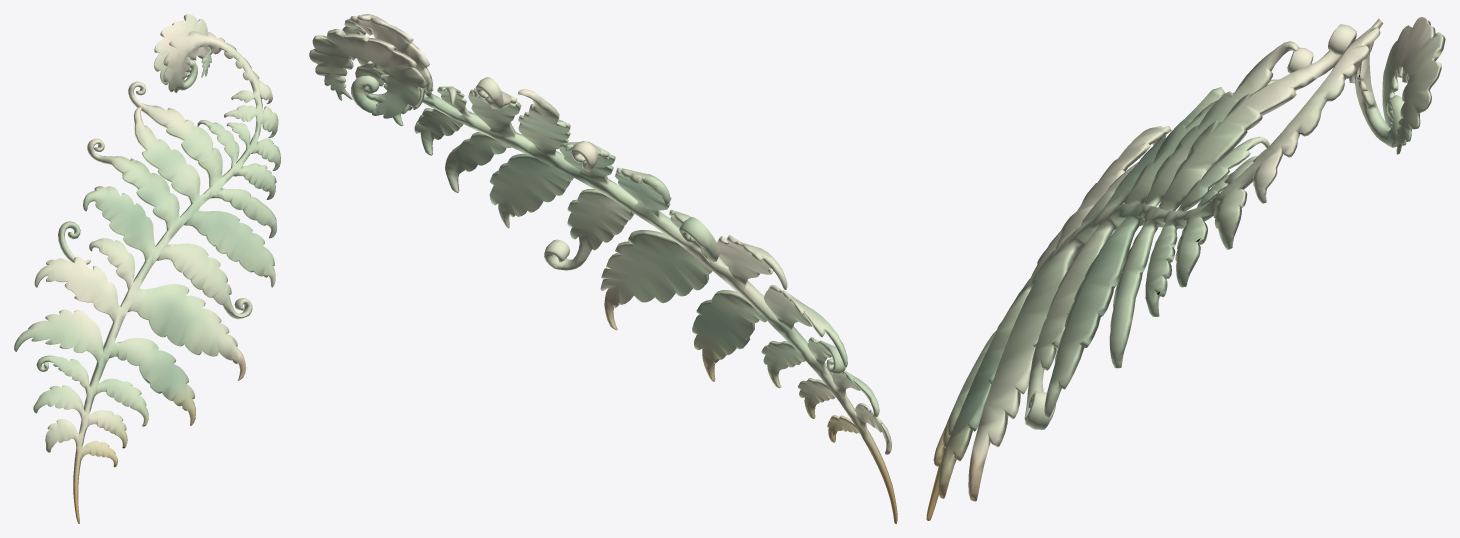
File: rightferntwo.glb
3 views of the same model, side by side, from view 1: azimuth 30°, elevation 25°; view 2: azimuth 150°, elevation 25°; view 3: azimuth 270°, elevation 25° (orthographic). The views are drawn at different scales.
Visible parts, largest first — view 1: Organism__fern; view 2: Organism__fern; view 3: Organism__fern.
Boxes of the visible parts, <box> form: Organism__fern: <box>14,14,280,523</box>; Organism__fern: <box>309,14,897,523</box>; Organism__fern: <box>926,17,1445,520</box>.
Bounding box in the file's own units: 2.13 × 2.48 × 1.63.
1 material, 1 textured.
